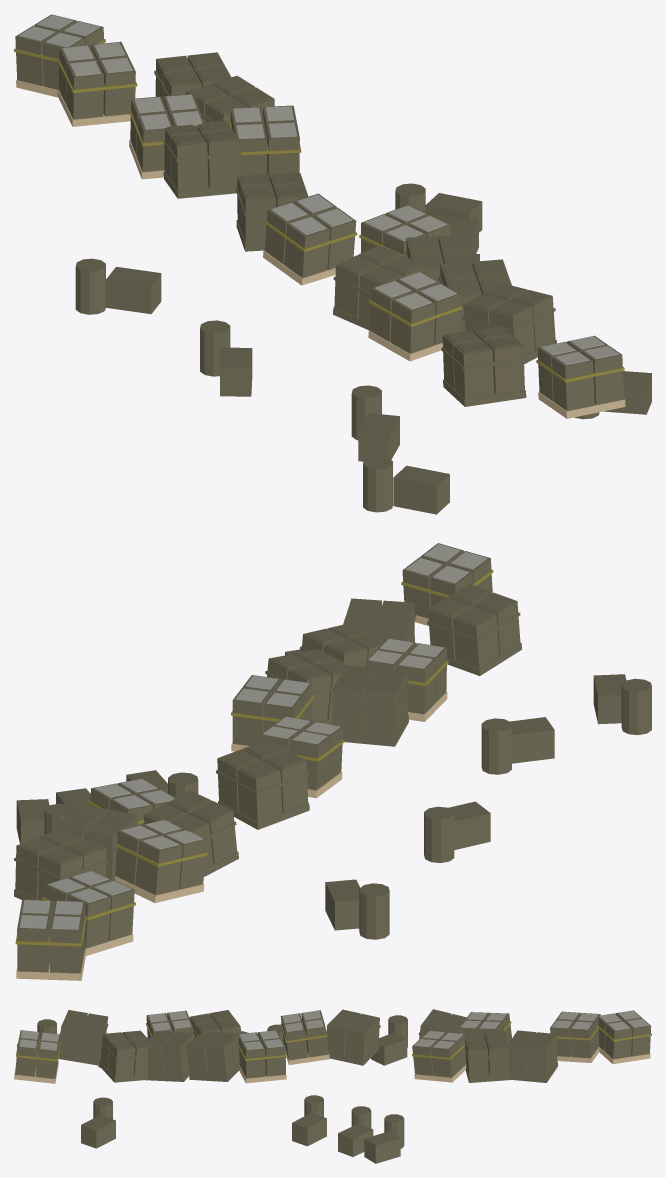
Rendered from SM_CargaCombustible_Destrozado_LOD0.fbx.
3 renders of one model, top to bottom at view 1: azimuth 30°, elevation 25°; view 2: azimuth 150°, elevation 25°; view 3: azimuth 270°, elevation 25°, orthographic. The views are drawn at different scales.
Parts seen in each view (by area): view 1: SM_carga_vagon_v9_LOD0; view 2: SM_carga_vagon_v9_LOD0; view 3: SM_carga_vagon_v9_LOD0.
Boxes of the visible parts, x1,y1,x2,y2 form: SM_carga_vagon_v9_LOD0: [14, 14, 651, 514]; SM_carga_vagon_v9_LOD0: [14, 543, 651, 980]; SM_carga_vagon_v9_LOD0: [14, 1009, 651, 1163].
Bounding box in the file's own units: 8.23 × 2.35 × 18.38.
